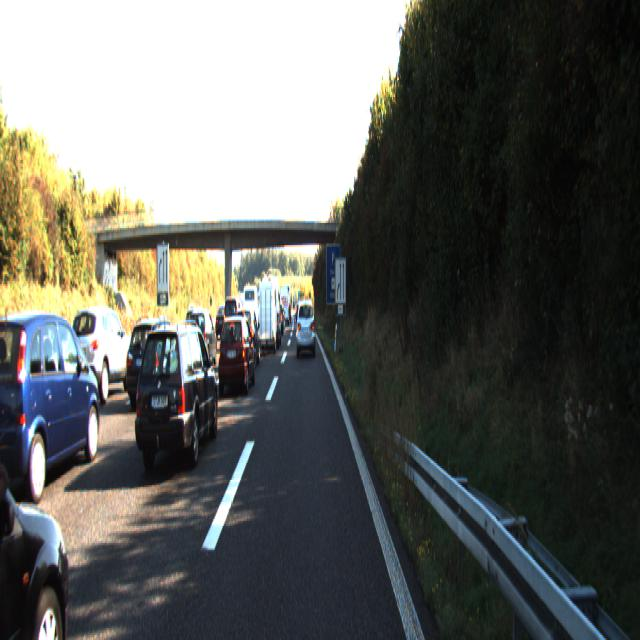Car: (0, 354, 85, 638), (0, 302, 105, 505), (132, 318, 220, 480), (68, 305, 134, 405), (126, 313, 187, 409), (217, 313, 256, 395), (232, 304, 260, 368), (256, 281, 278, 356), (296, 296, 315, 354), (279, 286, 290, 325)
